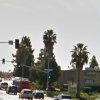Tree: (14, 14, 90, 80)
